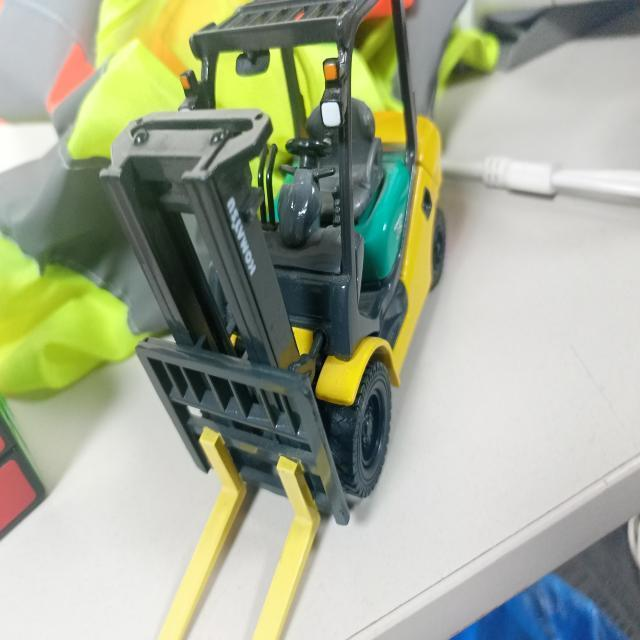forklift: (102, 0, 437, 507)
